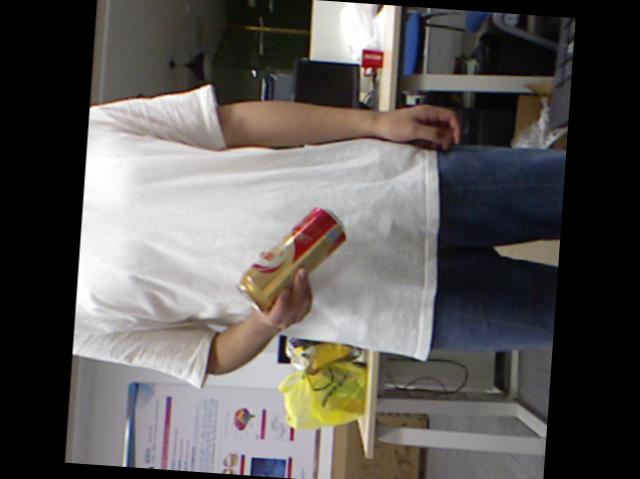cardboard paper: (331, 425, 426, 479)
metal: (238, 206, 343, 310)
